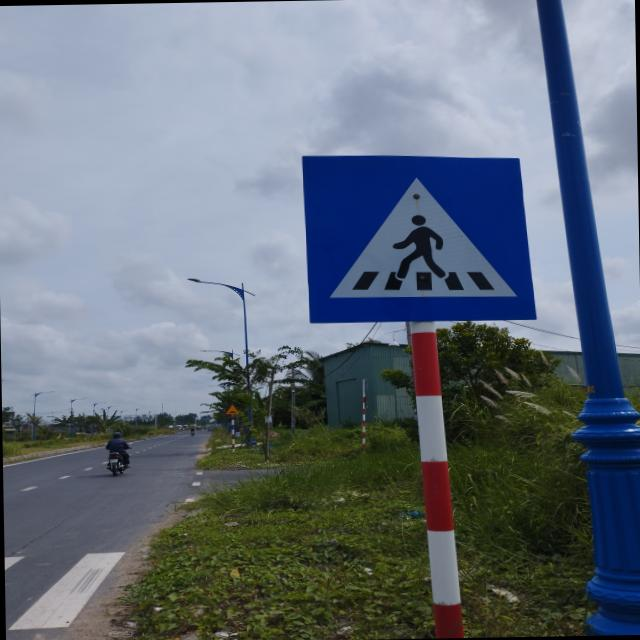Giao_Nhau_Duong_Uu_Tien: (303, 150, 536, 324)
